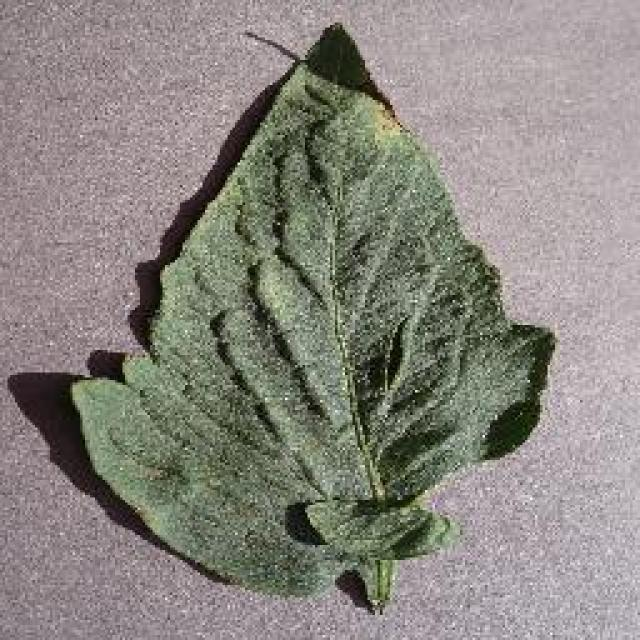Tomato___Target_Spot: (70, 25, 552, 610)
